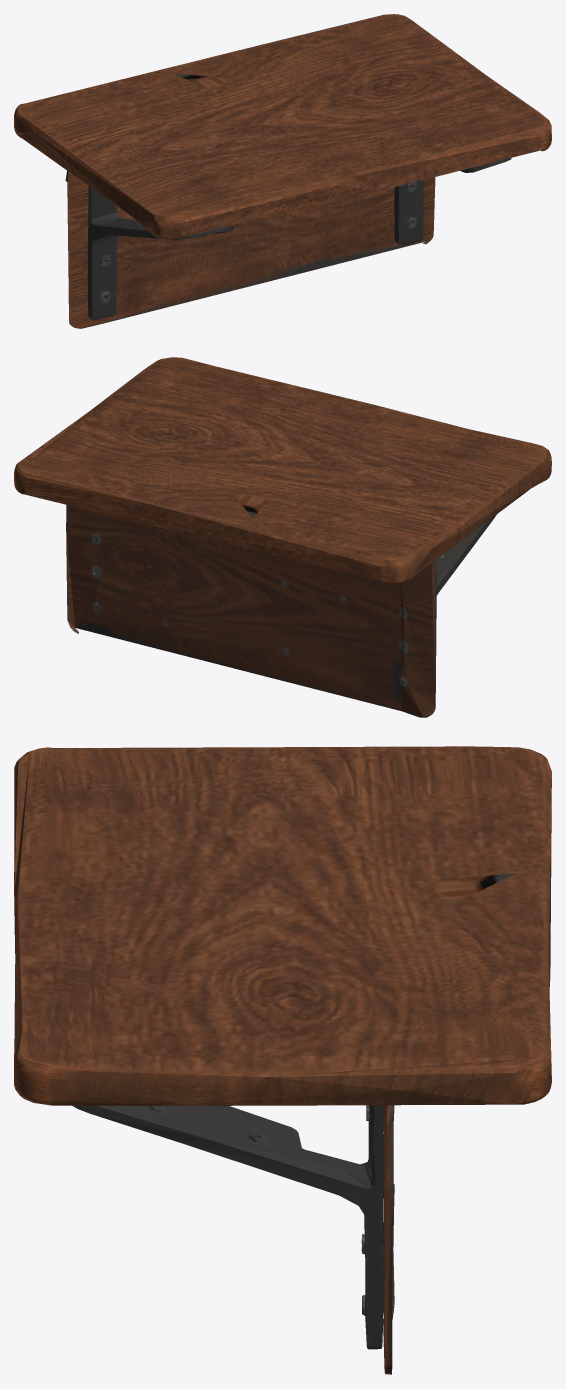
The model's file is remeshed-shelf.glb.
3 views of the same model, one above another, from view 1: azimuth 30°, elevation 25°; view 2: azimuth 150°, elevation 25°; view 3: azimuth 270°, elevation 25° (orthographic). The views are drawn at different scales.
Parts seen in each view (by area): view 1: output_unwrapped; view 2: output_unwrapped; view 3: output_unwrapped.
Boxes of the visible parts, x1,y1,x2,y2 form: output_unwrapped: [14, 14, 551, 328]; output_unwrapped: [14, 357, 551, 717]; output_unwrapped: [14, 746, 551, 1374].
Size of the model in its own units: 1.9 by 0.8895 by 1.33.
1 material, 1 textured.
